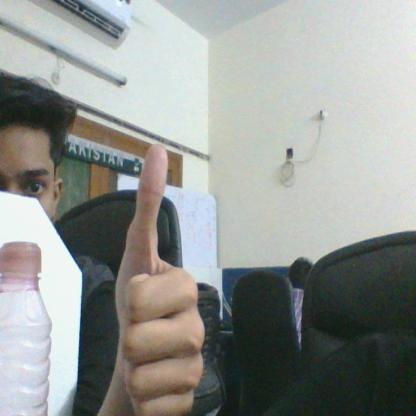thumbs-up: (110, 148, 213, 416)
